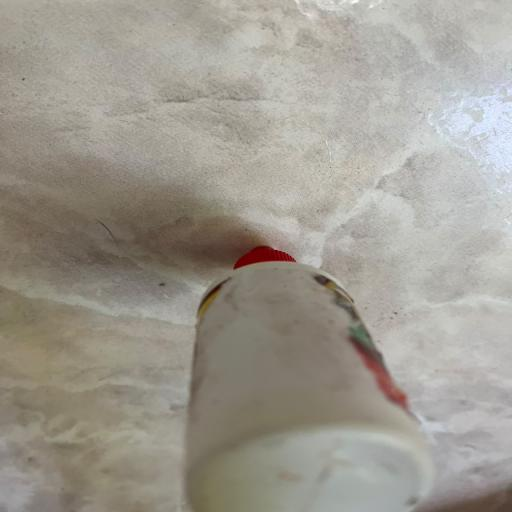HDPE: (140, 218, 487, 512)
